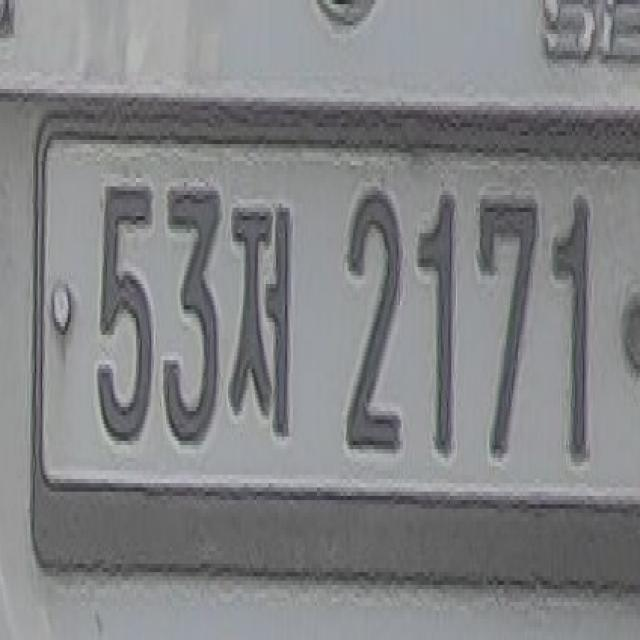1: (412, 165, 466, 496), (545, 200, 599, 504)
2: (346, 182, 406, 483)
3: (156, 182, 232, 470)
5: (95, 148, 160, 454)
7: (471, 182, 551, 513)
jeo: (227, 165, 300, 437)
license_plate: (24, 106, 640, 610)
